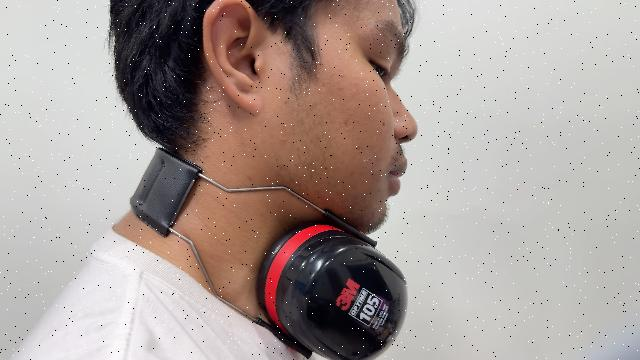headphones: (131, 149, 407, 359)
right_ear: (201, 0, 279, 120)
